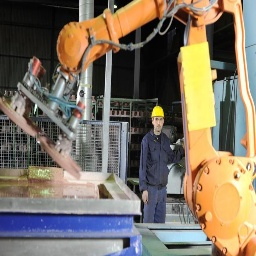helmet: (151, 105, 165, 121)
no-vest: (143, 134, 172, 192)
person: (139, 105, 176, 224)
